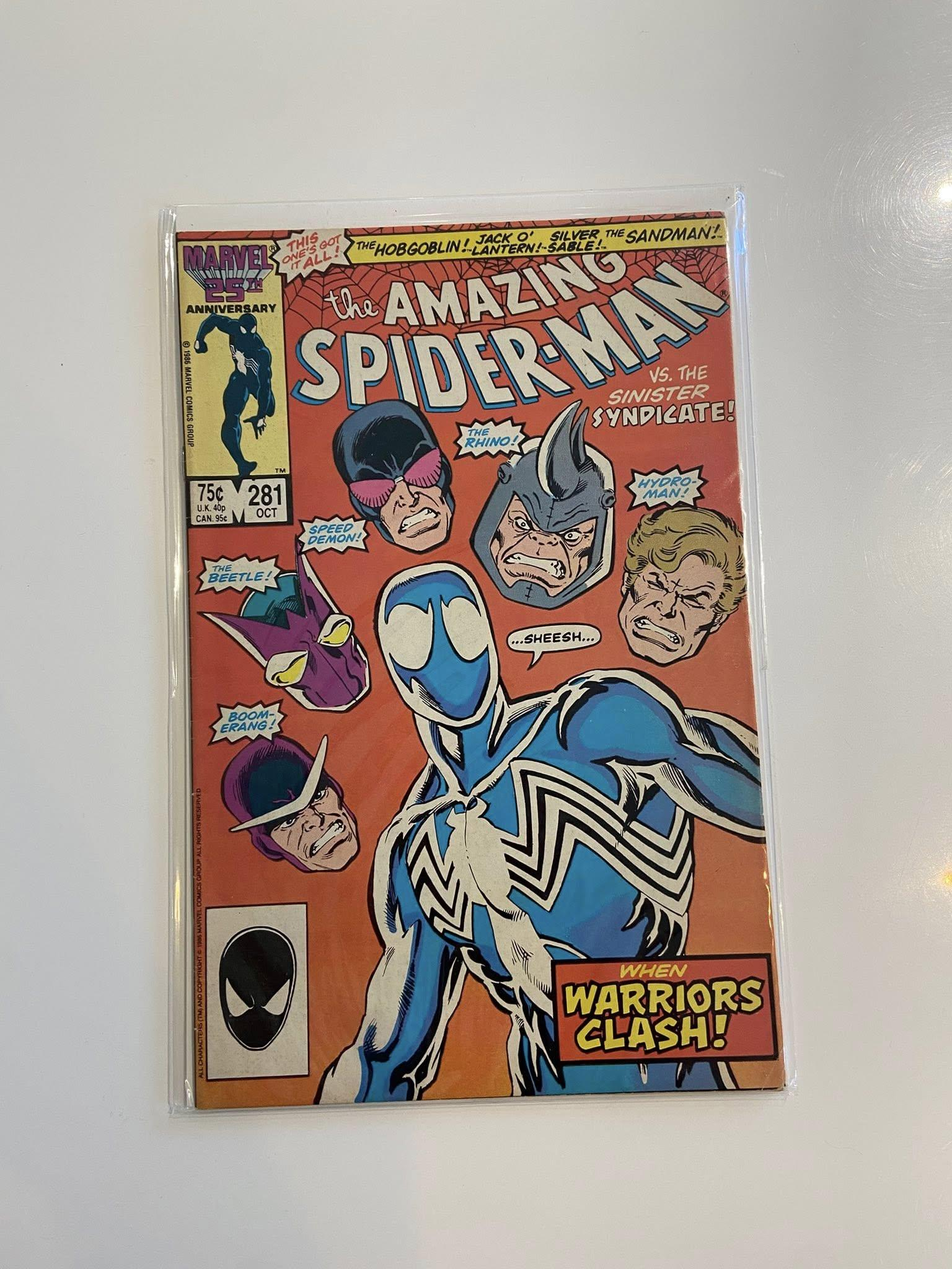comic: (147, 204, 784, 1115)
